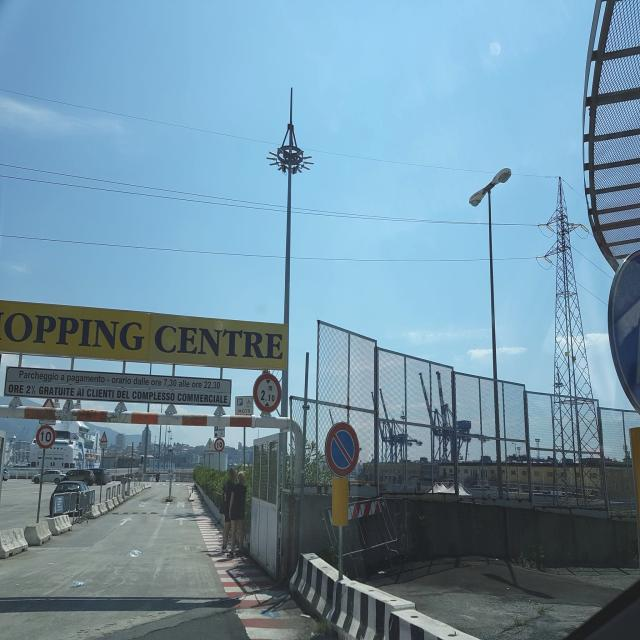car: (49, 480, 95, 520), (65, 468, 98, 485), (33, 467, 66, 484), (92, 468, 108, 484), (518, 488, 532, 502)
